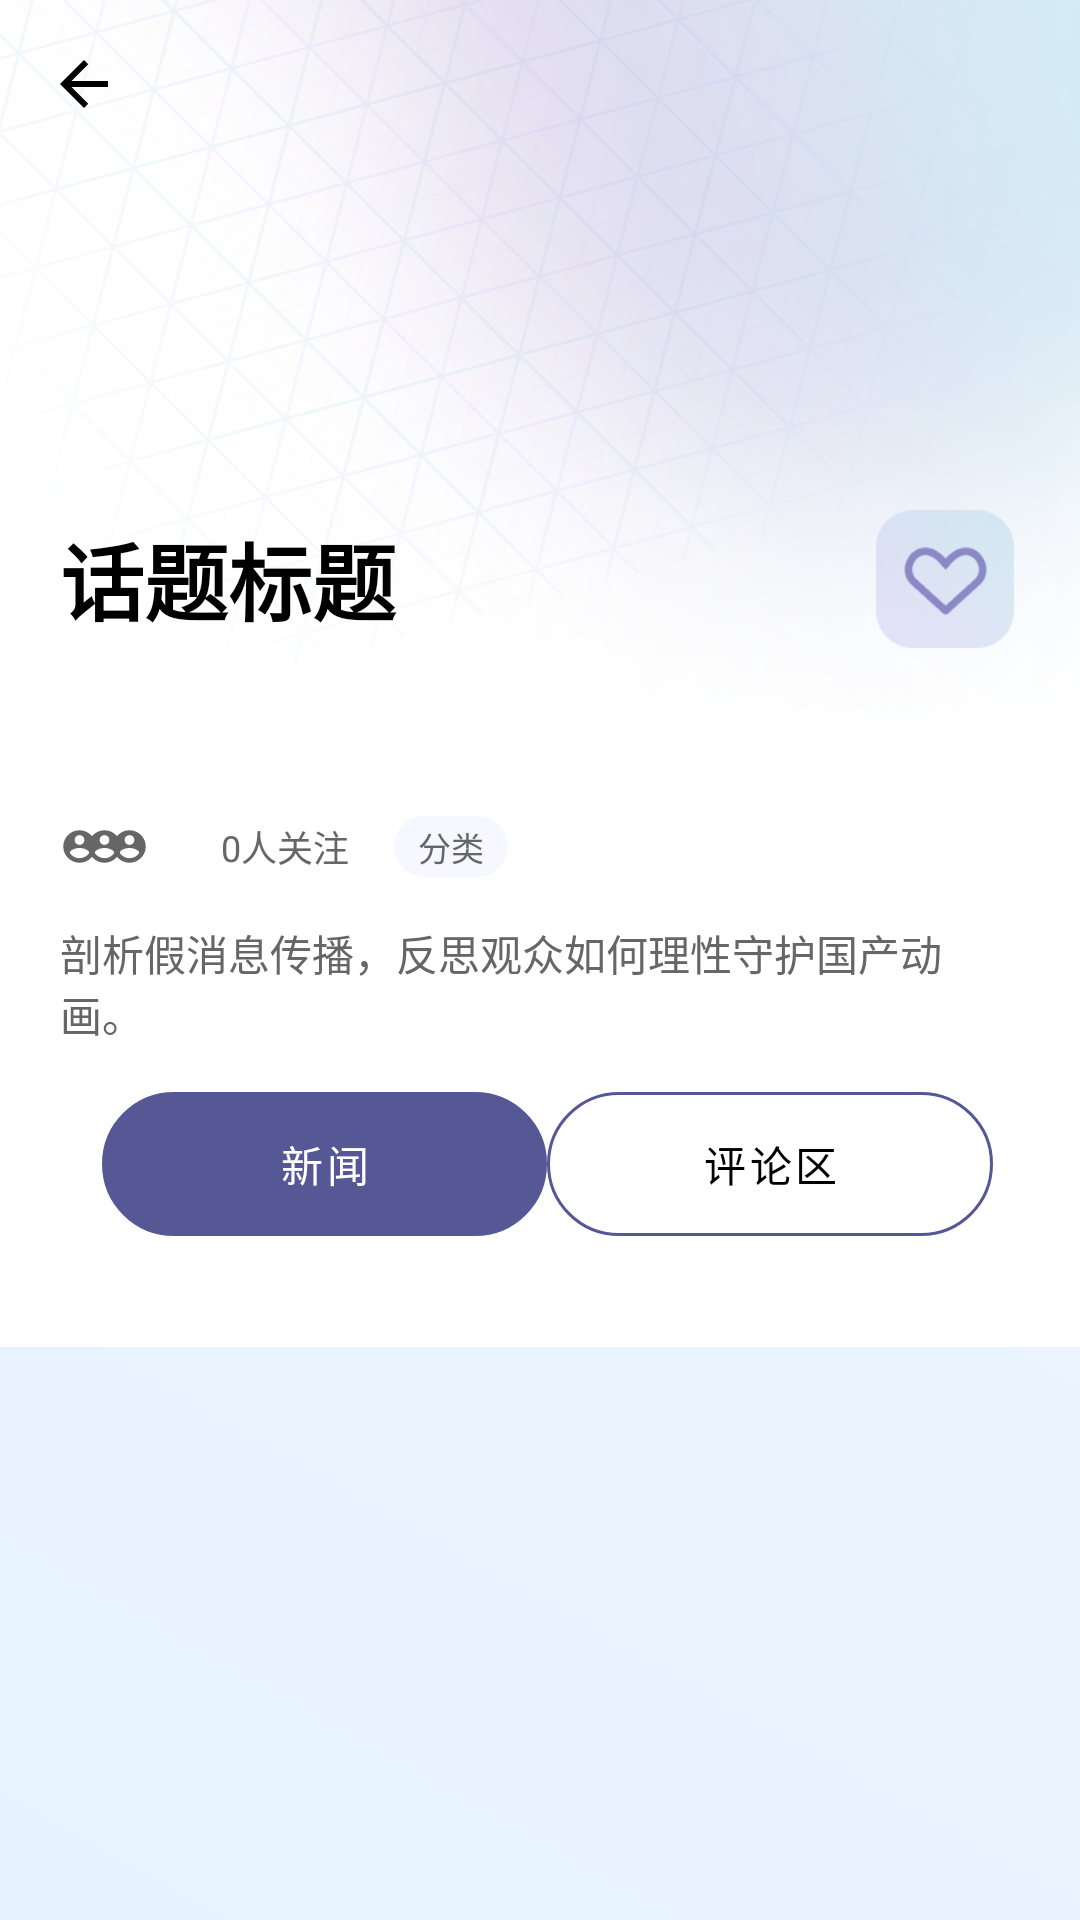

Icon click points for this 1080px x 1920px phone screenshot, format (x,y):
收藏: (945,579)
